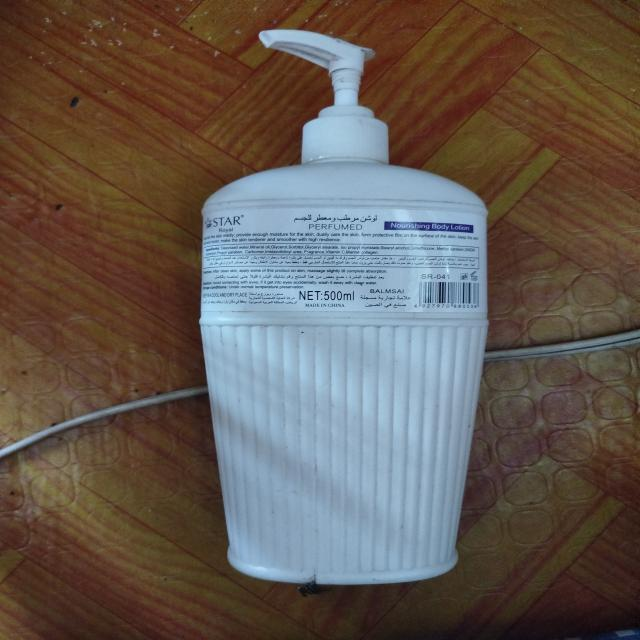plastic: (166, 15, 520, 603)
